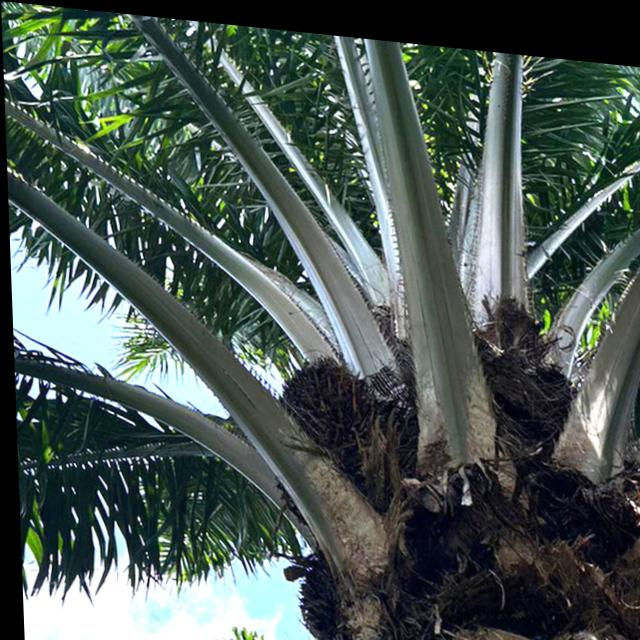ripe: (266, 333, 378, 464)
